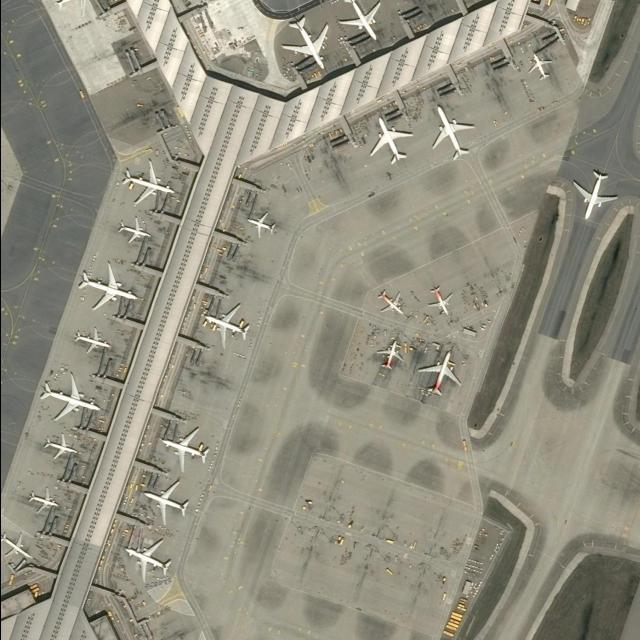Aircraft: (33, 366, 99, 421), (75, 257, 137, 313), (275, 12, 330, 72), (38, 372, 100, 422), (76, 261, 136, 311), (566, 165, 618, 221), (118, 156, 173, 208), (279, 14, 329, 70), (426, 102, 473, 161), (156, 424, 210, 475), (428, 103, 474, 160), (138, 475, 189, 526), (116, 535, 170, 583), (365, 112, 413, 166), (200, 299, 249, 351), (570, 167, 617, 221), (119, 158, 173, 204), (366, 115, 412, 166), (158, 425, 209, 471), (414, 348, 461, 397), (201, 302, 250, 348), (122, 538, 172, 583), (141, 479, 189, 525), (417, 350, 461, 397), (334, 1, 382, 43), (336, 0, 382, 41), (69, 323, 111, 359), (113, 211, 155, 247), (421, 282, 454, 318), (0, 529, 33, 564), (372, 337, 404, 373), (41, 431, 76, 463), (24, 483, 57, 516), (241, 208, 275, 240), (71, 325, 109, 353), (371, 285, 405, 315), (0, 531, 32, 561), (424, 283, 452, 317), (115, 217, 149, 245), (42, 433, 77, 460), (375, 338, 403, 371), (375, 287, 405, 317), (244, 210, 276, 238), (25, 487, 57, 514), (47, 0, 104, 15), (47, 0, 102, 15), (526, 48, 550, 82), (526, 51, 552, 81)
